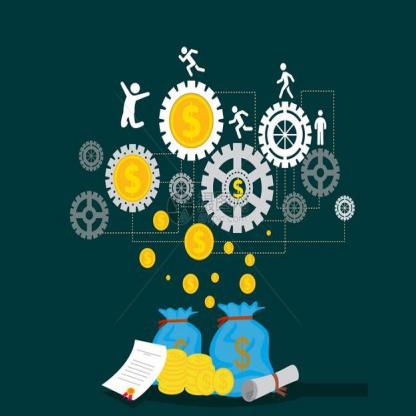FOD: (69, 190, 110, 240)
